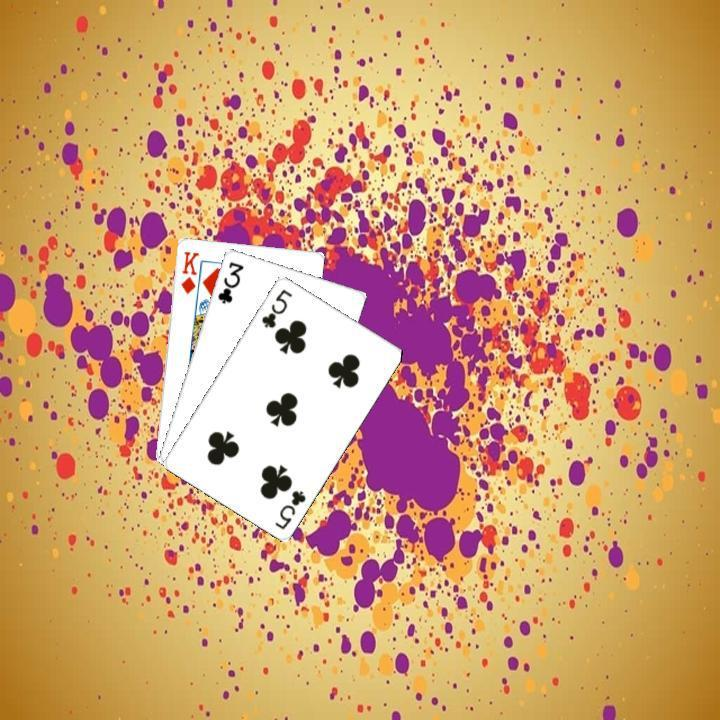3: (213, 257, 246, 305)
5: (270, 485, 308, 531), (257, 284, 294, 330)
K: (176, 247, 201, 296)
